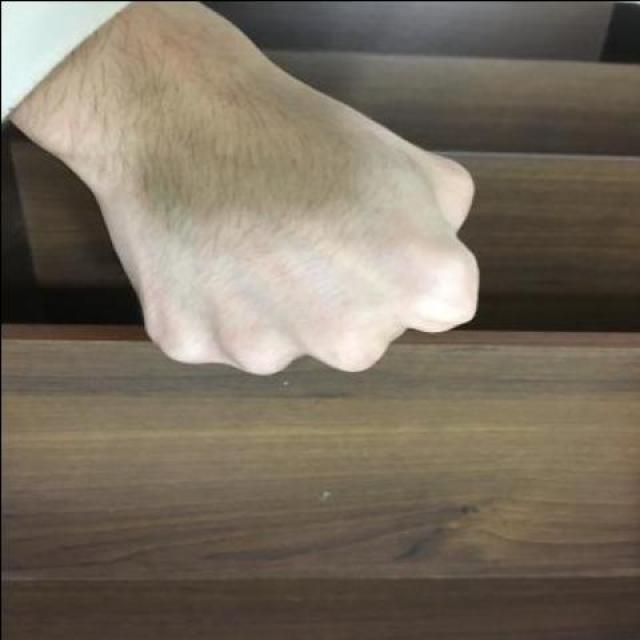Closed Hand: (0, 45, 484, 399)
